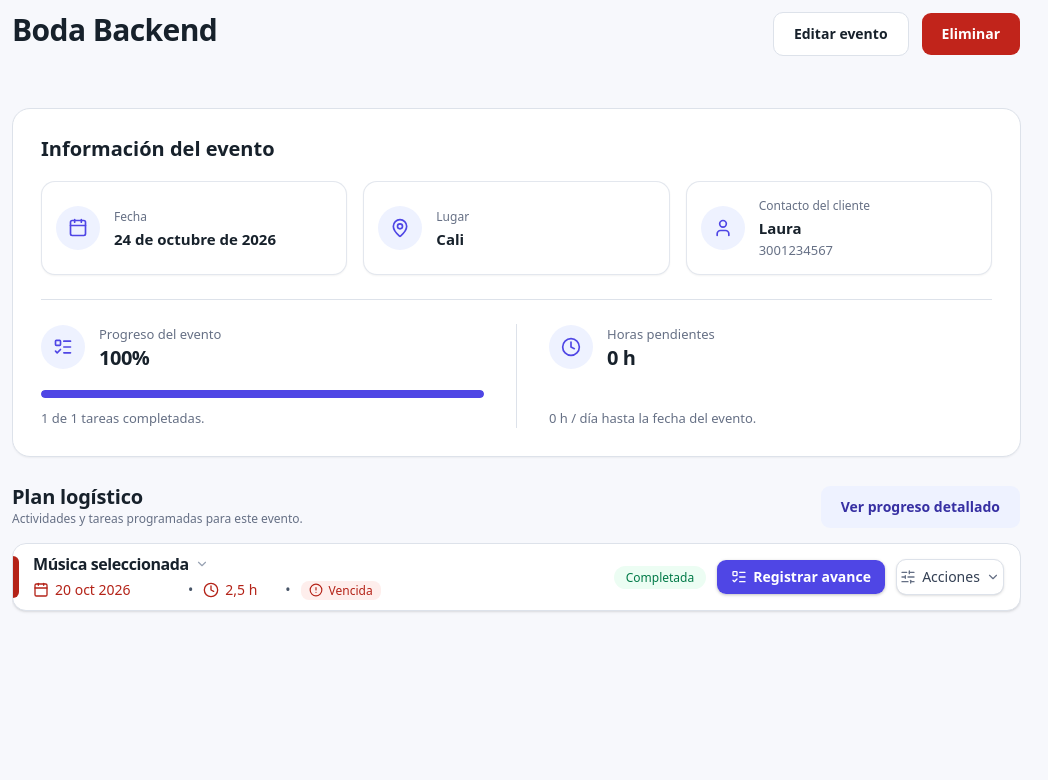
EventDetailContent › permite volver a registrar avance en tareas completadas sin reprogramarlas
Expected: the button with aria-label "Registrar avance de Música seleccionada" is shown, [716,559,886,595]
Click the button with aria-label "Más acciones para Música seleccionada": (950, 577) [896,559,1004,595]
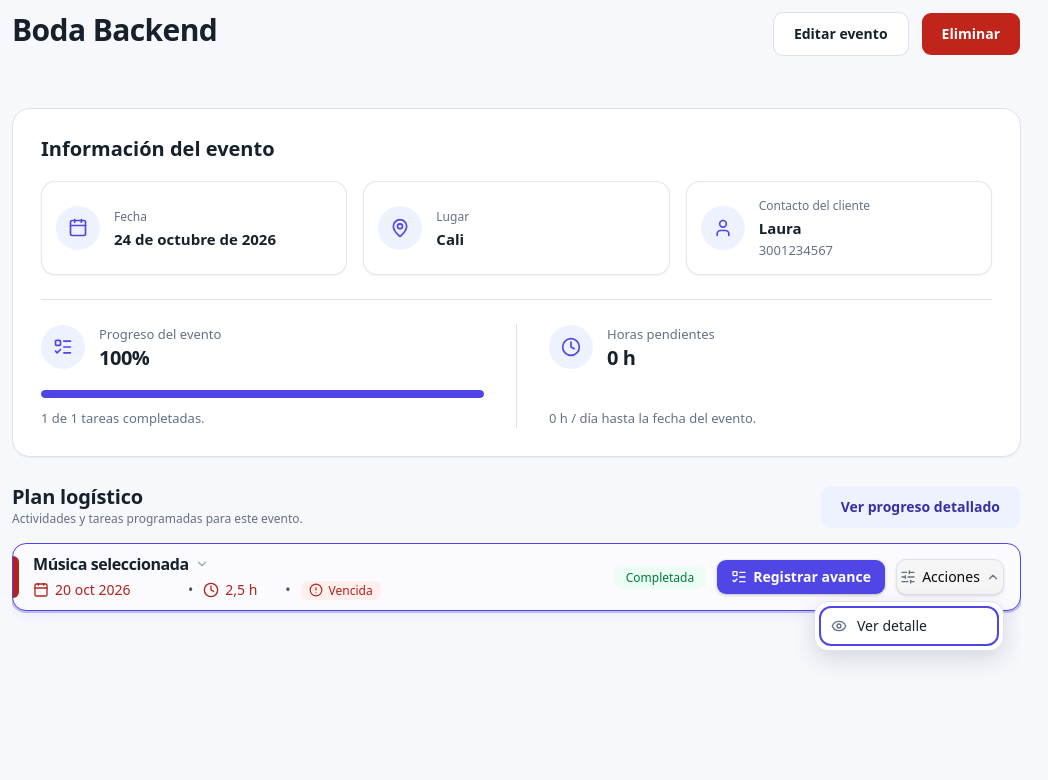
Expected: the menu item with aria-label "Ver detalle de Música seleccionada" is shown, [821,608,997,644]
